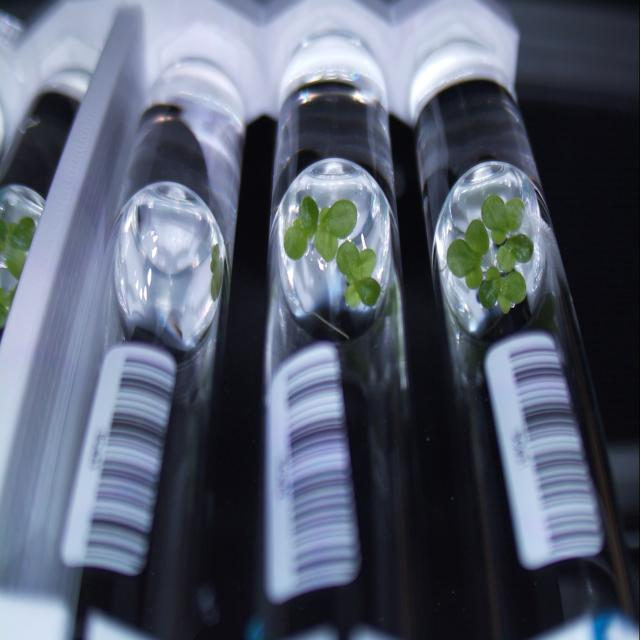Lemna-Gibba: (336, 240, 381, 307), (446, 220, 489, 289), (314, 200, 358, 262), (284, 195, 319, 260), (478, 267, 526, 314), (481, 193, 525, 243), (496, 233, 534, 272), (210, 243, 222, 300)
